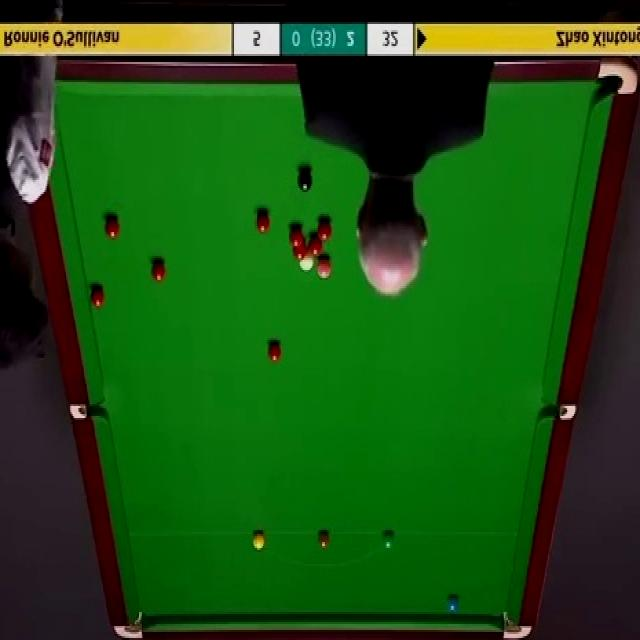black-ball: (297, 166, 314, 192)
blue-ball: (445, 593, 461, 618)
brown-ball: (317, 529, 331, 549)
green-ball: (382, 528, 396, 550)
pink-ball: (314, 255, 332, 279)
red-ball: (104, 213, 120, 241), (150, 258, 168, 282), (267, 340, 283, 364), (288, 224, 304, 247), (256, 209, 270, 235), (89, 285, 104, 309), (291, 240, 308, 261), (317, 220, 332, 242), (311, 238, 327, 258)
white-ball: (298, 253, 316, 273)
yellow-ball: (252, 530, 266, 550)
